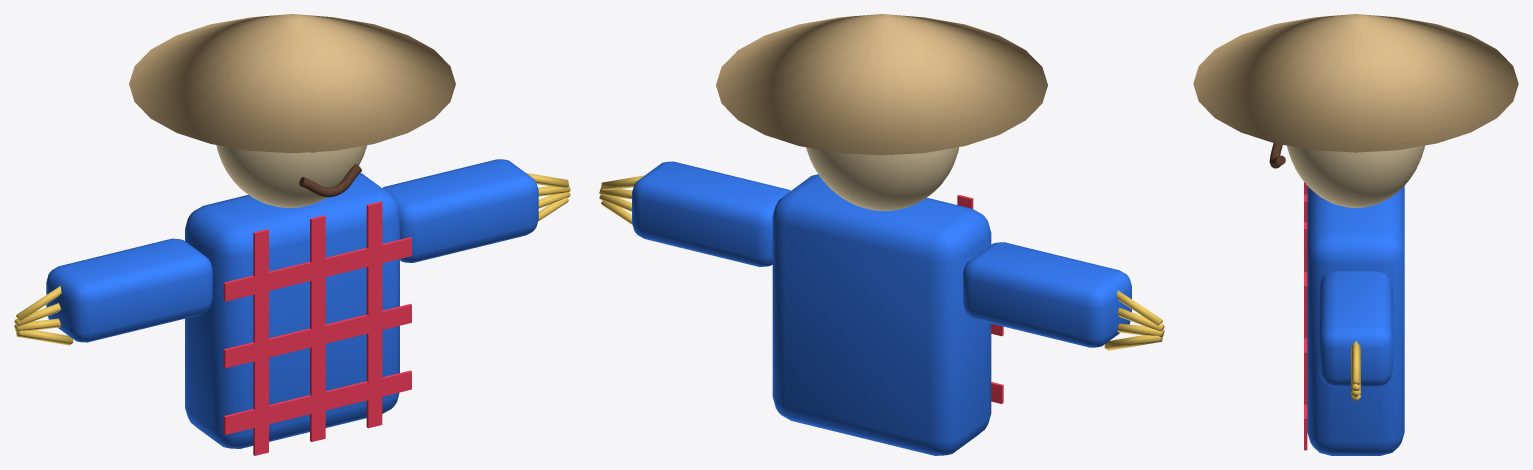
The model's file is orang-orangan-ayun.glb.
3 views of the same model, side by side, from view 1: azimuth 30°, elevation 25°; view 2: azimuth 150°, elevation 25°; view 3: azimuth 270°, elevation 25° (orthographic). The views are drawn at different scales.
Parts seen in each view (by area): view 1: Cone, Cube, Cube.007, Cube.008, Sphere, Cube.005, Cube.001, Cube.004, Cube.003, Cube.002, Cube.006, tube; view 2: Cube, Cone, Cube.007, Cube.008, Sphere; view 3: Cone, Cube, Cube.008, Sphere, Cube.006, Cylinder.008.
Part boxes in pixels (x1=…): Cone: x1=129, y1=14, x2=455, y2=153; Cube: x1=185, y1=173, x2=399, y2=448; Cube.007: x1=46, y1=238, x2=212, y2=342; Cube.008: x1=382, y1=159, x2=538, y2=262; Sphere: x1=216, y1=145, x2=366, y2=207; Cube.005: x1=223, y1=237, x2=411, y2=301; Cube.001: x1=223, y1=370, x2=411, y2=434; Cube.004: x1=310, y1=215, x2=325, y2=441; Cube.003: x1=223, y1=304, x2=411, y2=368; Cube.002: x1=253, y1=229, x2=268, y2=455; Cube.006: x1=366, y1=201, x2=382, y2=428; tube: x1=299, y1=164, x2=361, y2=197; Cube: x1=772, y1=174, x2=991, y2=455; Cone: x1=716, y1=14, x2=1047, y2=155; Cube.007: x1=963, y1=242, x2=1131, y2=347; Cube.008: x1=632, y1=161, x2=790, y2=266; Sphere: x1=806, y1=147, x2=959, y2=210; Cone: x1=1193, y1=14, x2=1518, y2=152; Cube: x1=1307, y1=186, x2=1404, y2=455; Cube.008: x1=1319, y1=270, x2=1392, y2=387; Sphere: x1=1287, y1=145, x2=1424, y2=207; Cube.006: x1=1304, y1=222, x2=1307, y2=450; Cylinder.008: x1=1351, y1=341, x2=1360, y2=384.
Bounding box in the file's own units: 3.9 × 2.73 × 2.
